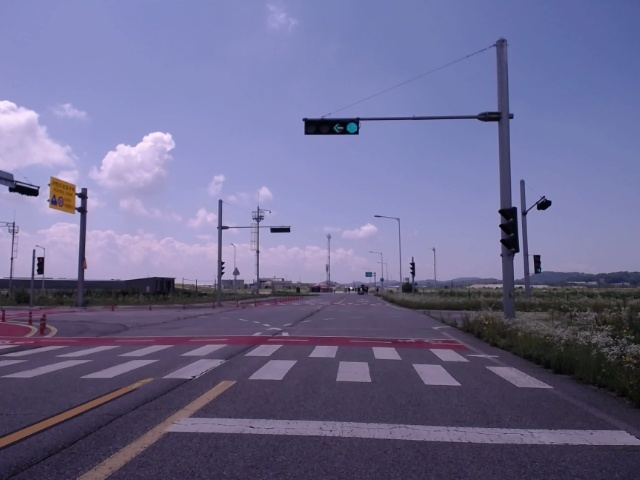all_green_4: (302, 119, 364, 135)
